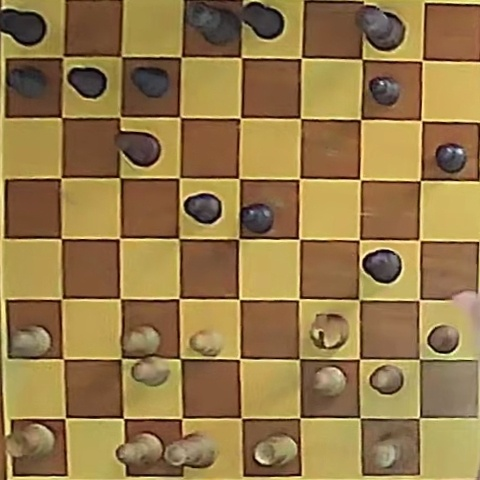black-bishop: (363, 249, 401, 284)
black-king: (355, 5, 404, 50)
black-knight: (115, 132, 160, 167)
black-pawn: (7, 66, 47, 99), (67, 67, 107, 99), (131, 66, 170, 98), (184, 193, 221, 224), (241, 203, 274, 233), (436, 144, 467, 173), (369, 77, 400, 106)
black-queen: (184, 2, 239, 45)
black-rook: (0, 8, 47, 47), (241, 2, 284, 40)
white-bishop: (117, 433, 164, 466)
white-king: (371, 434, 413, 469)
white-knight: (310, 313, 348, 348)
white-pawn: (10, 325, 51, 357), (123, 325, 161, 356), (132, 356, 170, 386), (313, 367, 347, 397), (370, 365, 404, 394), (427, 325, 459, 353), (190, 329, 223, 356)
white-queen: (163, 432, 218, 467)
white-rook: (6, 423, 56, 459), (253, 434, 298, 466)
